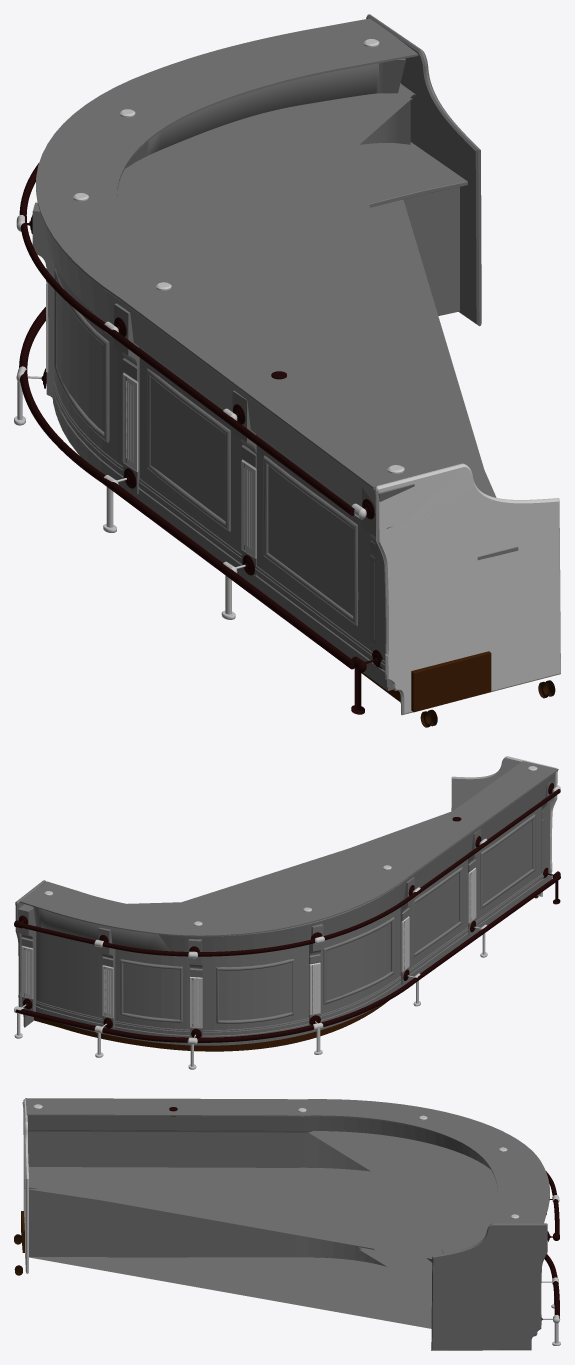
File: bar.fbx
The picture shows the model from 3 angles, top to bottom: view 1: azimuth 30°, elevation 25°; view 2: azimuth 150°, elevation 25°; view 3: azimuth 270°, elevation 25°; orthographic projection. The views are drawn at different scales.
Visible parts, largest first — view 1: quad.013, quad.011, Line01, quad.009, quad.010, quad.012, quad.016, Line01.Line198, quad.015, border.001, cylender.027, quad.014 (+10 smaller); view 2: quad.009, quad.013, quad.012, quad.011, quad.015, cylender.027, border.001, quad.014, quad.010, border.002, Line01, border (+18 smaller); view 3: quad.016, quad.011, quad.013, Line01.Line198, quad.009, quad.010, quad.012, Line01, border.001, border, quad.015.
Part boxes in pixels (box(x1,y1,x2,y2)): quad.013: box(36, 18, 433, 489); quad.011: box(193, 142, 518, 560); Line01: box(375, 463, 560, 715); quad.009: box(54, 98, 412, 690); quad.010: box(105, 83, 415, 528); quad.012: box(44, 58, 414, 506); quad.016: box(370, 187, 483, 467); Line01.Line198: box(366, 14, 481, 326); quad.015: box(19, 307, 354, 669); border.001: box(52, 390, 393, 687); cylender.027: box(19, 163, 354, 515); quad.014: box(361, 651, 491, 712); quad.009: box(36, 800, 550, 1045); quad.013: box(20, 761, 558, 936); quad.012: box(33, 771, 557, 951); quad.011: box(202, 811, 452, 901); quad.015: box(16, 874, 560, 1042); cylender.027: box(20, 789, 560, 956); border.001: box(36, 873, 551, 1043); quad.014: box(34, 1001, 387, 1051); quad.010: box(35, 800, 541, 956); border.002: box(36, 869, 551, 1034); Line01: box(451, 756, 557, 896); border: box(36, 868, 550, 1031); quad.016: box(29, 1189, 442, 1328); quad.011: box(24, 1167, 481, 1253); quad.013: box(25, 1098, 549, 1223); Line01.Line198: box(431, 1223, 547, 1350); quad.009: box(28, 1131, 482, 1293); quad.010: box(23, 1124, 497, 1239); quad.012: box(22, 1102, 490, 1169); Line01: box(23, 1099, 28, 1273); border.001: box(359, 1247, 431, 1292); border: box(381, 1250, 432, 1280); quad.015: box(544, 1254, 559, 1318).
Bounding box in the file's own units: 258 × 123 × 454.
